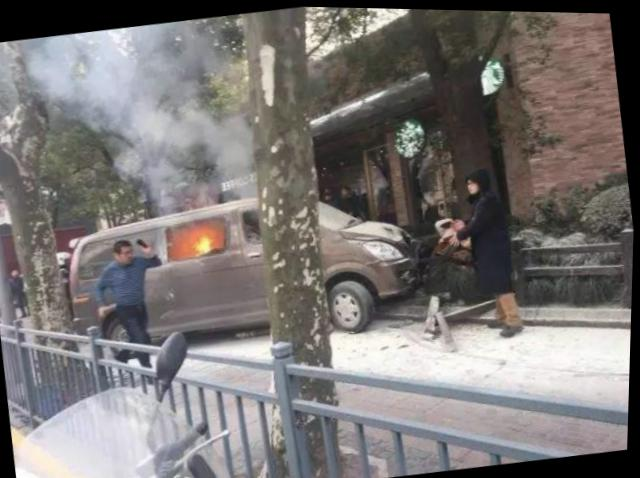fire: (181, 222, 225, 260)
